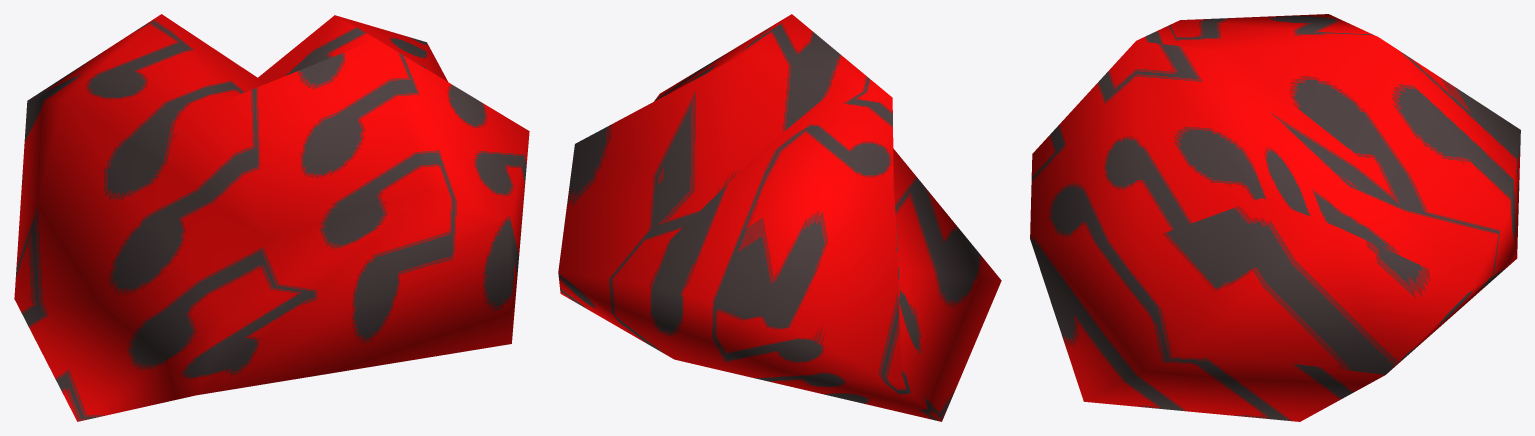
3 views of the same model, side by side, from view 1: azimuth 30°, elevation 25°; view 2: azimuth 150°, elevation 25°; view 3: azimuth 270°, elevation 25° (orthographic). The views are drawn at different scales.
Parts seen in each view (by area): view 1: it400; view 2: it400; view 3: it400.
Boxes of the visible parts, left/top/right/bottom form: it400: left=14, top=14, right=529, bottom=421; it400: left=558, top=14, right=1001, bottom=421; it400: left=1030, top=14, right=1520, bottom=421.
Size of the model in its own units: 0.5548 by 0.4776 by 0.5791.
1 material, 1 textured.
